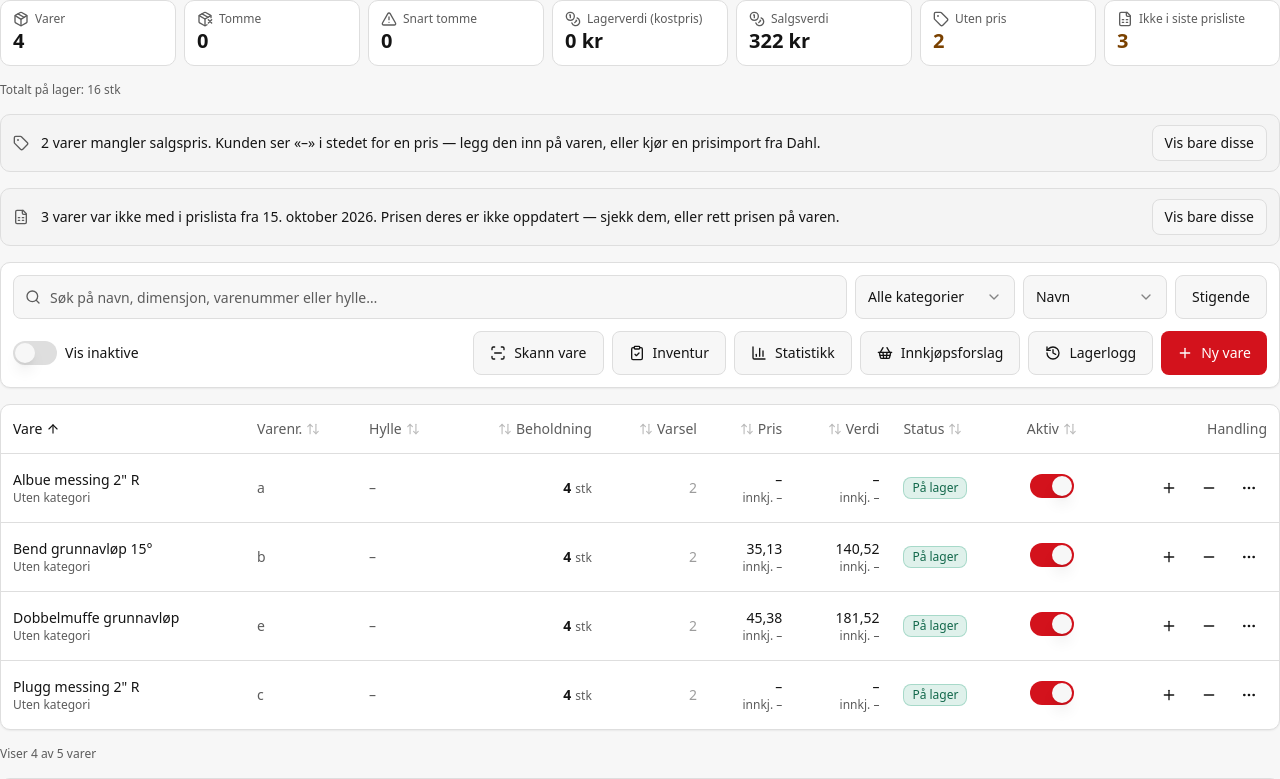
Test: varer som ikkje var med i siste prisliste › «Vis bare disse» skjuler varene som var med
Click the button "Vis bare disse" in the row of "15. oktober 2026": point(1209, 217) [1152,199,1267,235]
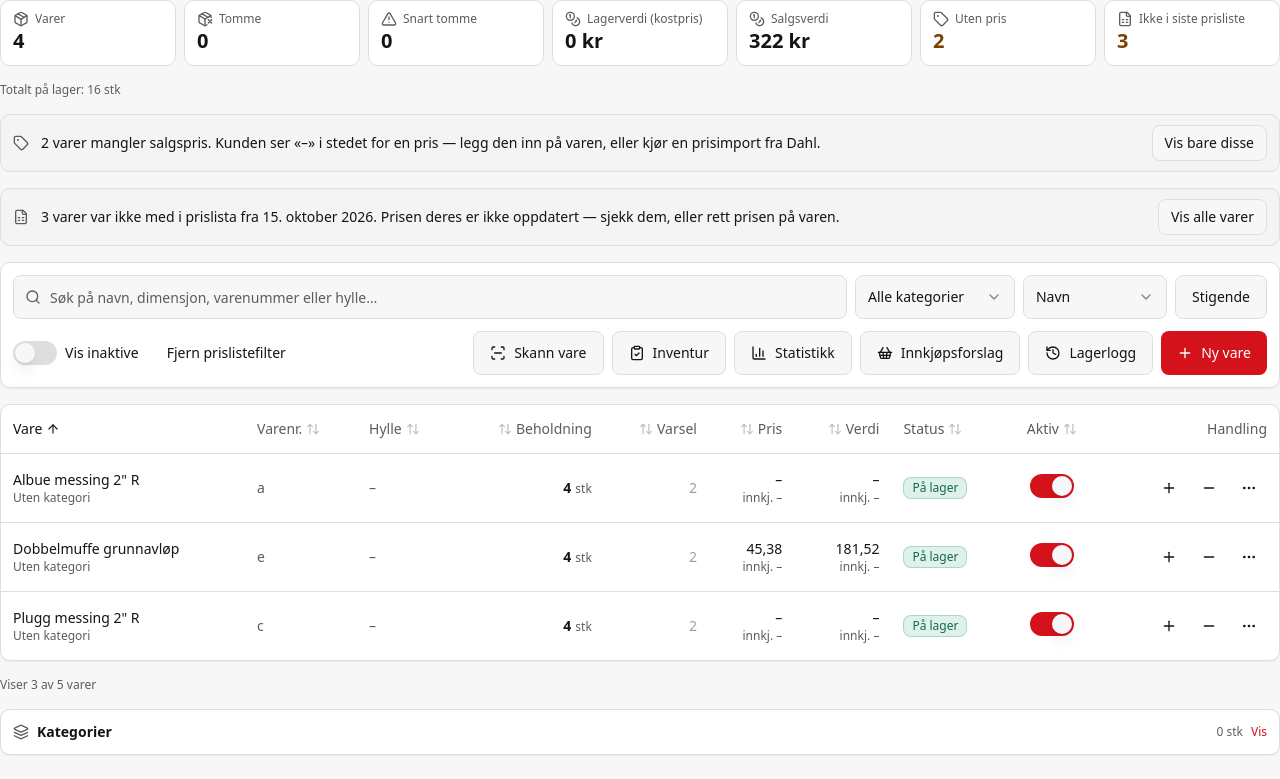
Check: the text "Dobbelmuffe grunnavløp" is shown, box [13,538,179,558]
Check: the text "Bend grunnavløp 15°" is gone
Check: the button "Fjern prislistefilter" is shown, box [155,335,298,371]
